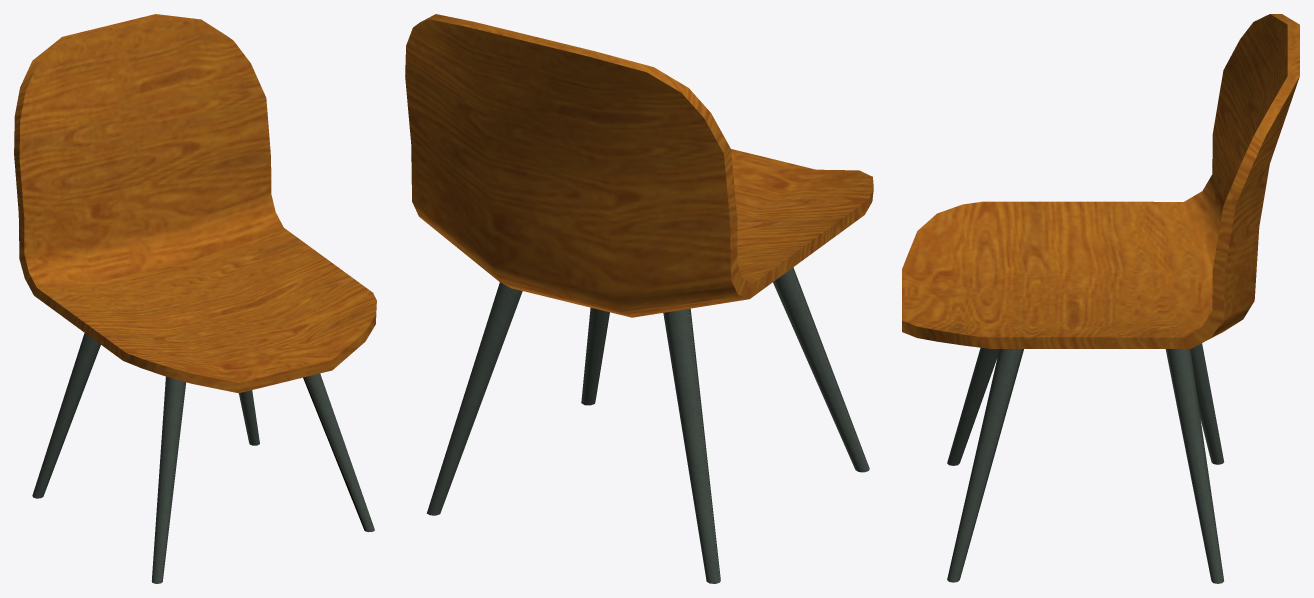
The model's file is LGSeochoB1ChairWood.fbx.
The picture shows the model from 3 angles, left to right: view 1: azimuth 30°, elevation 25°; view 2: azimuth 150°, elevation 25°; view 3: azimuth 270°, elevation 25°; orthographic projection. The views are drawn at different scales.
Parts seen in each view (by area): view 1: LGSeochoB1Plastic, LGSeochoB1Metal; view 2: LGSeochoB1Plastic, LGSeochoB1Metal; view 3: LGSeochoB1Plastic, LGSeochoB1Metal.
Boxes of the visible parts, left/top/right/bottom form: LGSeochoB1Plastic: left=14, top=14, right=376, bottom=393; LGSeochoB1Metal: left=32, top=333, right=374, bottom=583; LGSeochoB1Plastic: left=405, top=14, right=873, bottom=317; LGSeochoB1Metal: left=426, top=267, right=869, bottom=583; LGSeochoB1Plastic: left=902, top=14, right=1299, bottom=348; LGSeochoB1Metal: left=947, top=343, right=1223, bottom=583.
Bounding box in the file's own units: 50 × 80.89 × 61.96.
Materials: 2 (2 with a texture image).
